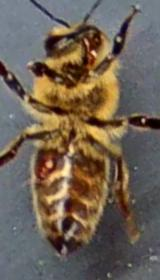varroa_mite: (33, 149, 66, 175)
